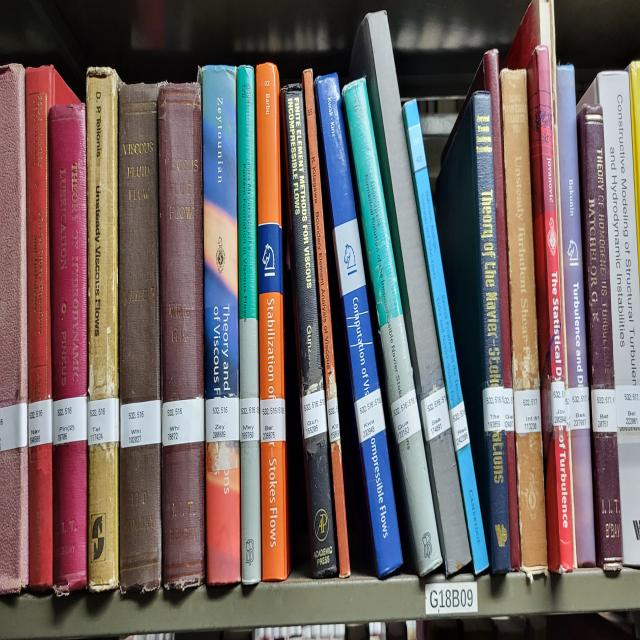Book: (349, 11, 471, 574), (342, 78, 441, 576), (315, 76, 402, 576), (402, 100, 489, 574), (435, 92, 510, 574), (580, 70, 640, 565), (280, 84, 338, 576), (25, 65, 78, 590), (526, 46, 574, 574), (442, 49, 512, 398), (500, 68, 548, 576), (302, 70, 350, 576), (159, 84, 205, 590), (578, 106, 622, 571), (202, 65, 240, 584), (556, 65, 595, 565), (49, 103, 88, 595), (86, 68, 119, 590), (256, 62, 289, 582), (119, 84, 160, 403), (236, 65, 261, 584), (0, 65, 28, 406), (505, 422, 520, 571)
Label: (162, 398, 205, 446), (120, 400, 161, 449), (52, 395, 88, 446), (355, 387, 385, 444), (391, 390, 421, 444), (420, 387, 450, 441), (205, 398, 240, 444), (88, 398, 119, 446), (0, 403, 28, 452), (301, 390, 328, 438), (514, 390, 541, 436), (591, 390, 618, 433), (28, 398, 52, 446), (615, 384, 640, 430), (260, 398, 286, 441), (450, 400, 470, 452), (482, 387, 504, 433), (568, 387, 590, 430), (240, 398, 260, 441), (551, 381, 566, 427), (326, 398, 340, 444), (502, 387, 515, 433)
